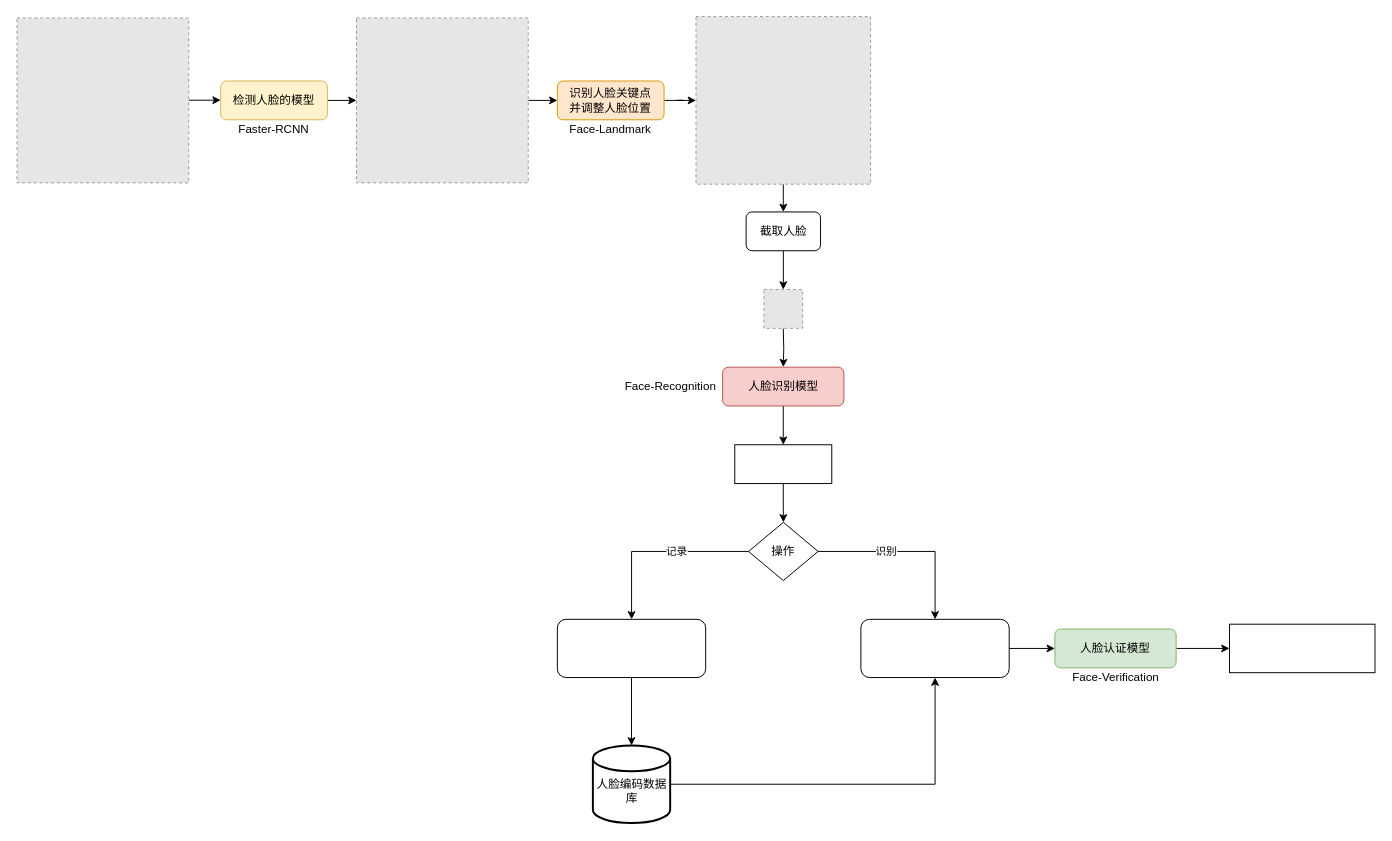
This 1392x841 diagram has some shape labels left out. Grey dashed boxes stand in for pictures. The shapes that lost their labels are listed below. From the top down, each one's centre as x and y in pixels, then its label:
At pixel 783 464: "人脸对应的编码".
At pixel 631 648: "记录到人脸编码数据库".
At pixel 934 648: "查询人脸编码数据库 找出最接近的 N 张人脸".
At pixel 1302 648: "如果找到同一个人 则输出该人物的身份 否则输出未知人物".
